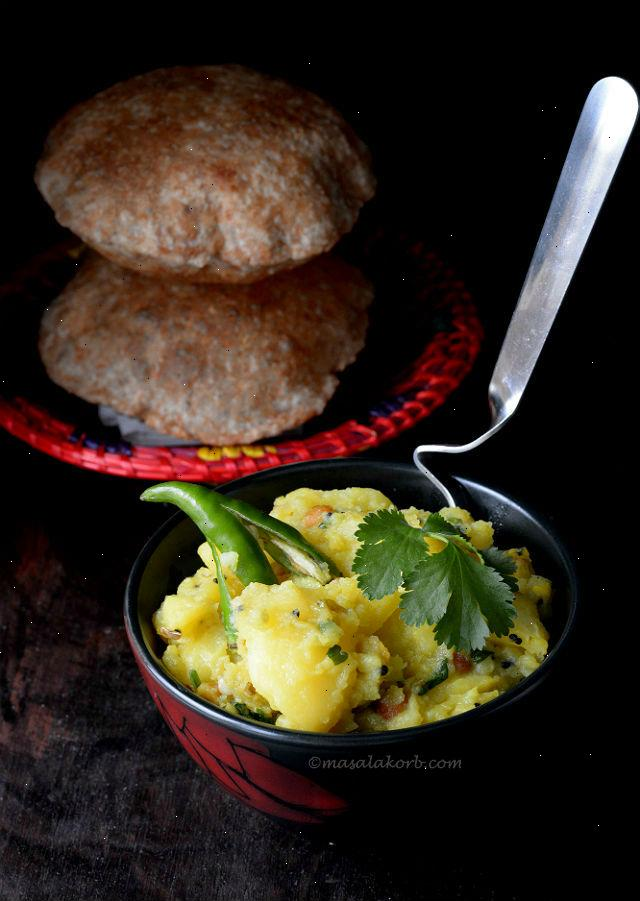puri: (40, 68, 395, 455)
